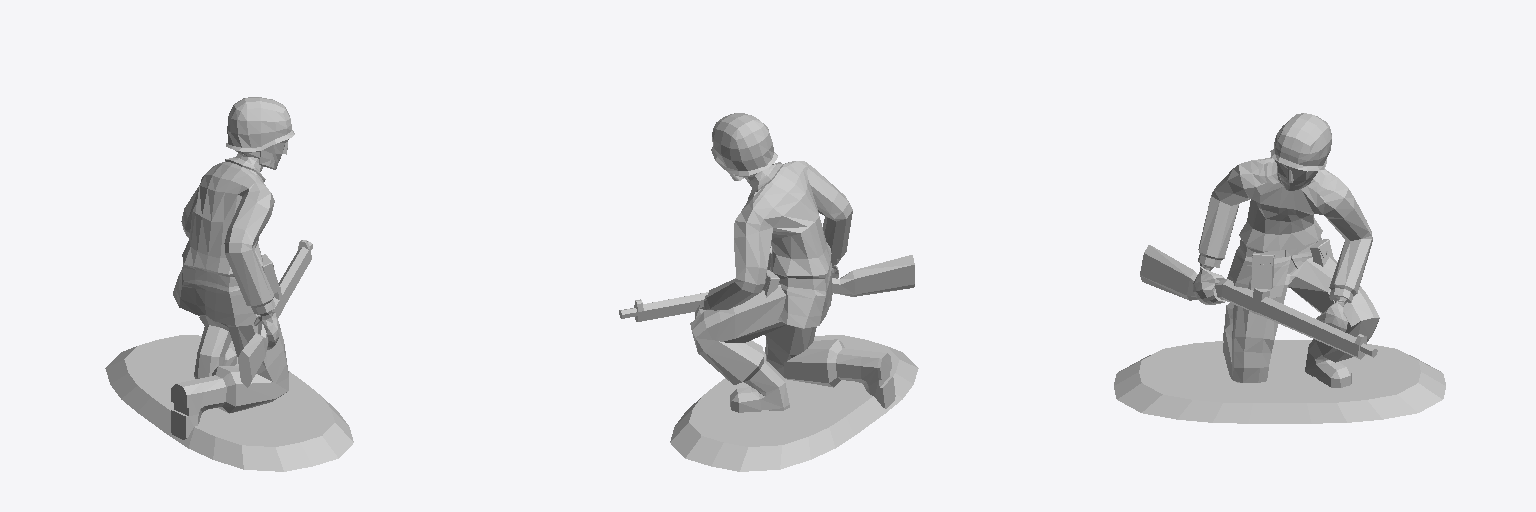
Rendered from Soldier2.obj.
3 renders of one model, left to right at view 1: azimuth 30°, elevation 25°; view 2: azimuth 150°, elevation 25°; view 3: azimuth 270°, elevation 25°, orthographic.
Parts seen in each view (by area): view 1: soldier_Cube.001; view 2: soldier_Cube.001; view 3: soldier_Cube.001.
Boxes of the visible parts, x1=… form: soldier_Cube.001: x1=105, y1=97, x2=353, y2=471; soldier_Cube.001: x1=619, y1=113, x2=918, y2=471; soldier_Cube.001: x1=1114, y1=113, x2=1445, y2=423.
Size of the model in its own units: 2.5 by 3.36 by 3.51.